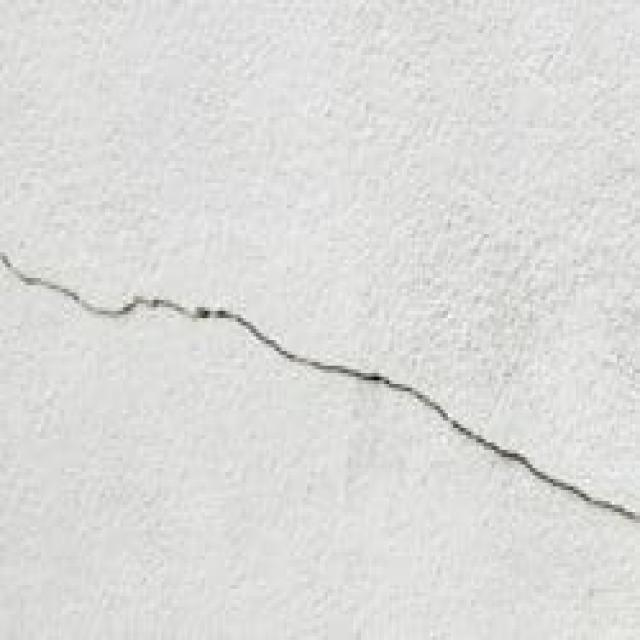Crack: (0, 252, 640, 526)
